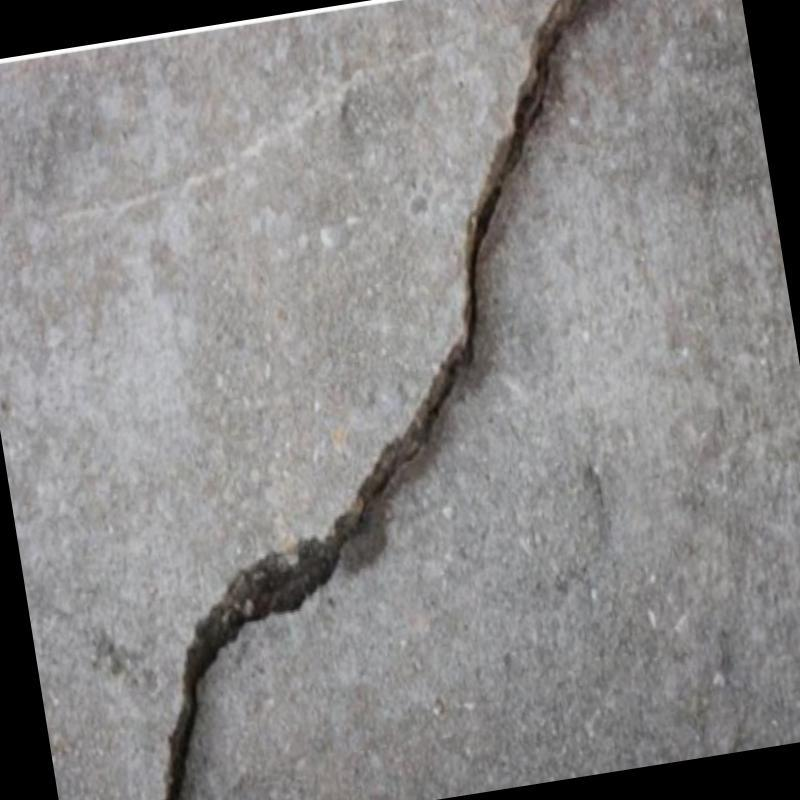pothole: (164, 0, 583, 800)
